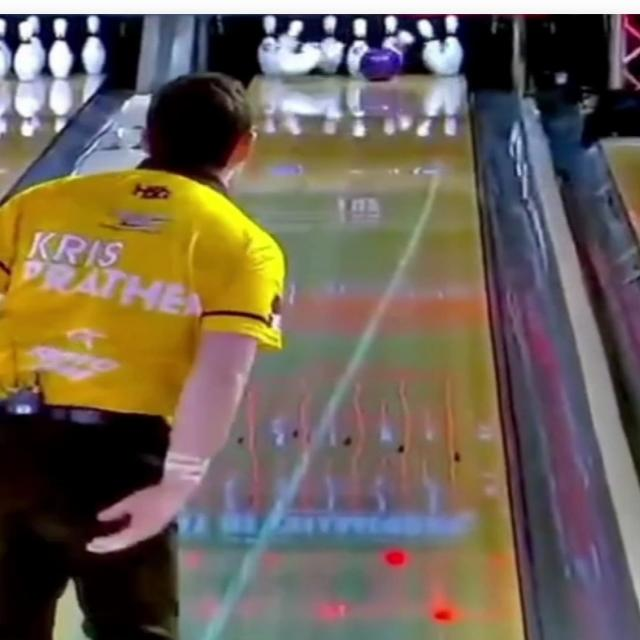alley: (180, 76, 523, 639)
balls: (358, 47, 401, 80)
bottle: (257, 16, 368, 75), (417, 16, 462, 73), (382, 16, 414, 56)
